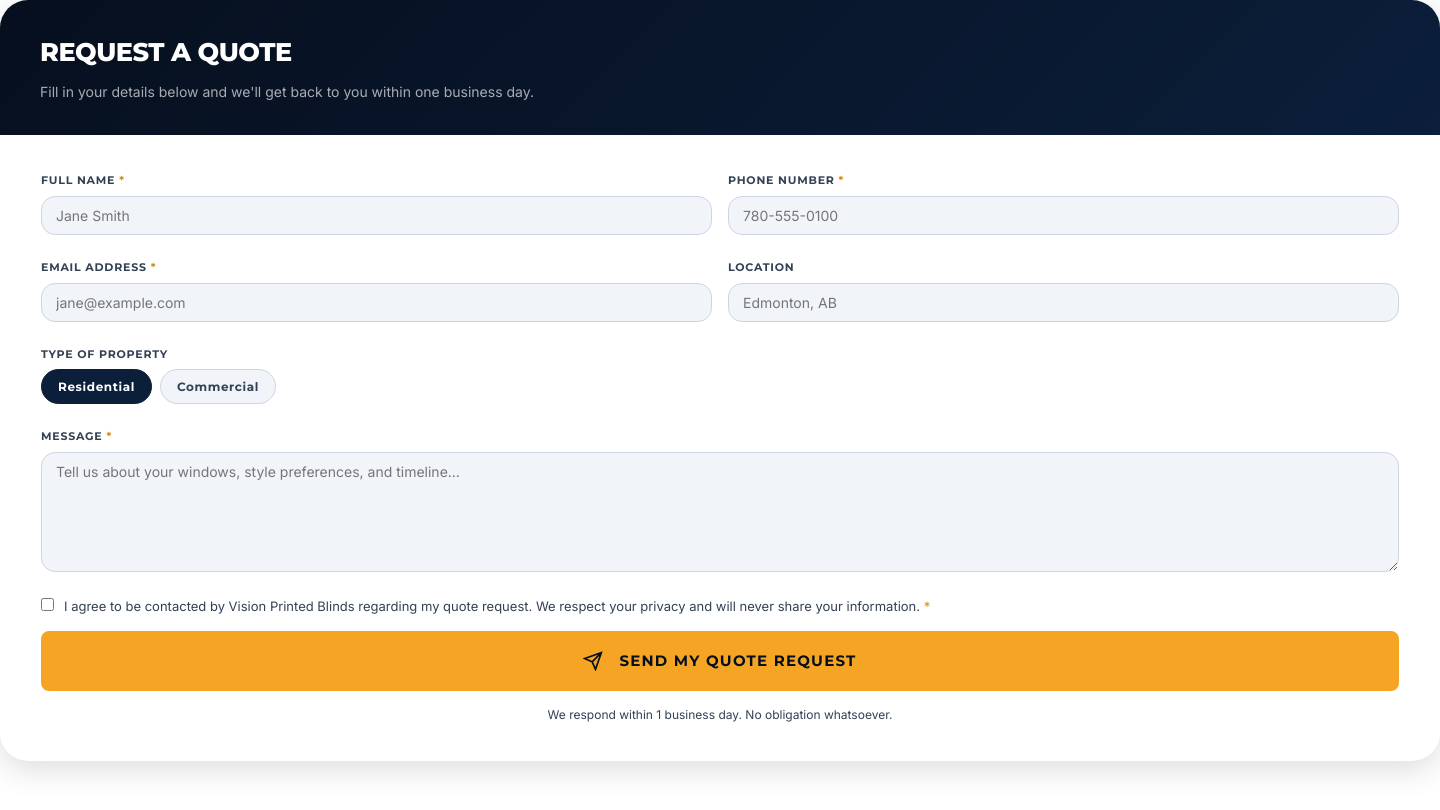
Test case: QuoteForm › blocks submission and shows field errors when required fields are empty
The image size is (1440, 810).
Click the button "Send My Quote Request": (720, 661) 41,631 -> 1399,691
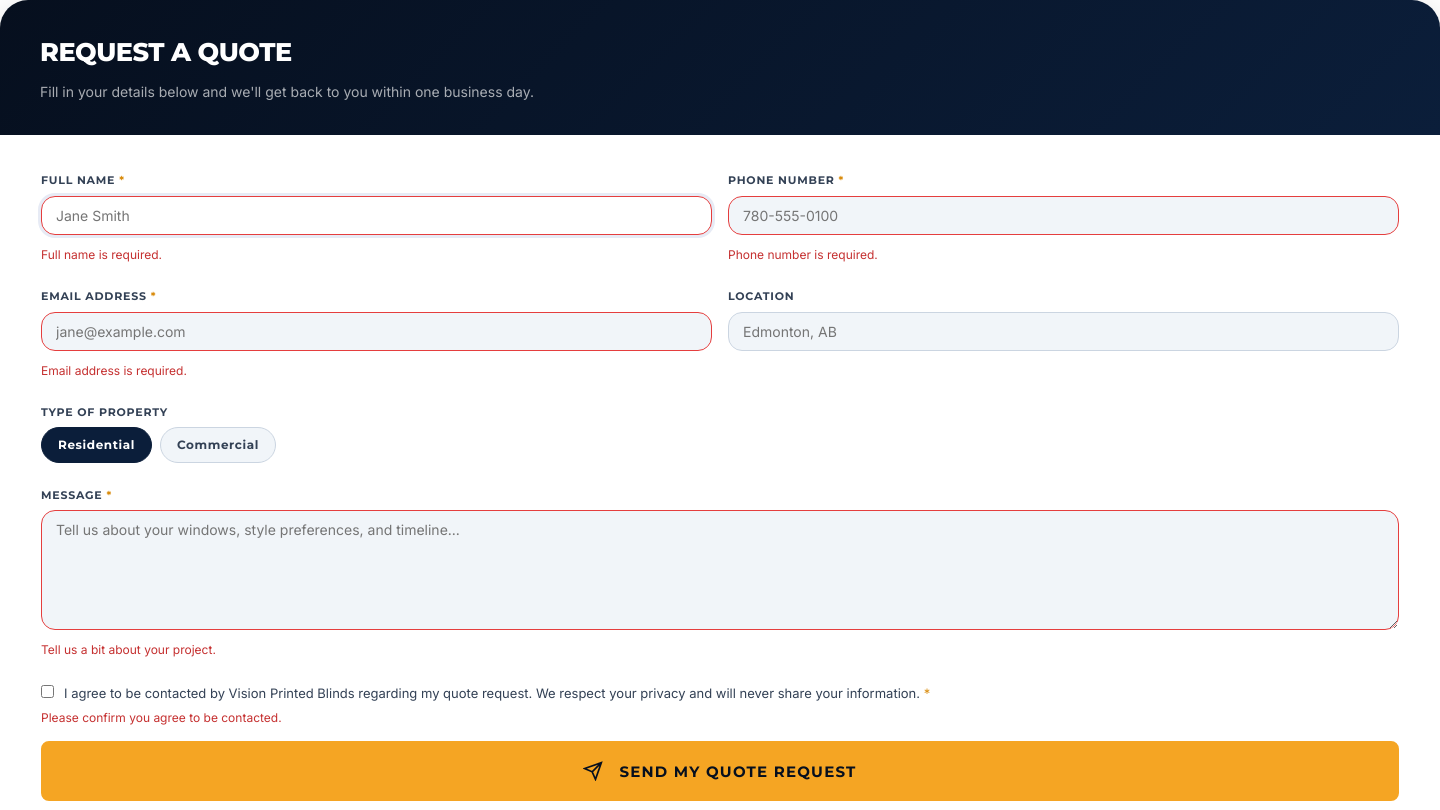
Check: the text "Full name is required." is shown, box 41,247 -> 162,262
Check: the text "Email address is required." is shown, box 41,363 -> 187,378
Check: the text "Phone number is required." is shown, box 728,247 -> 878,262
